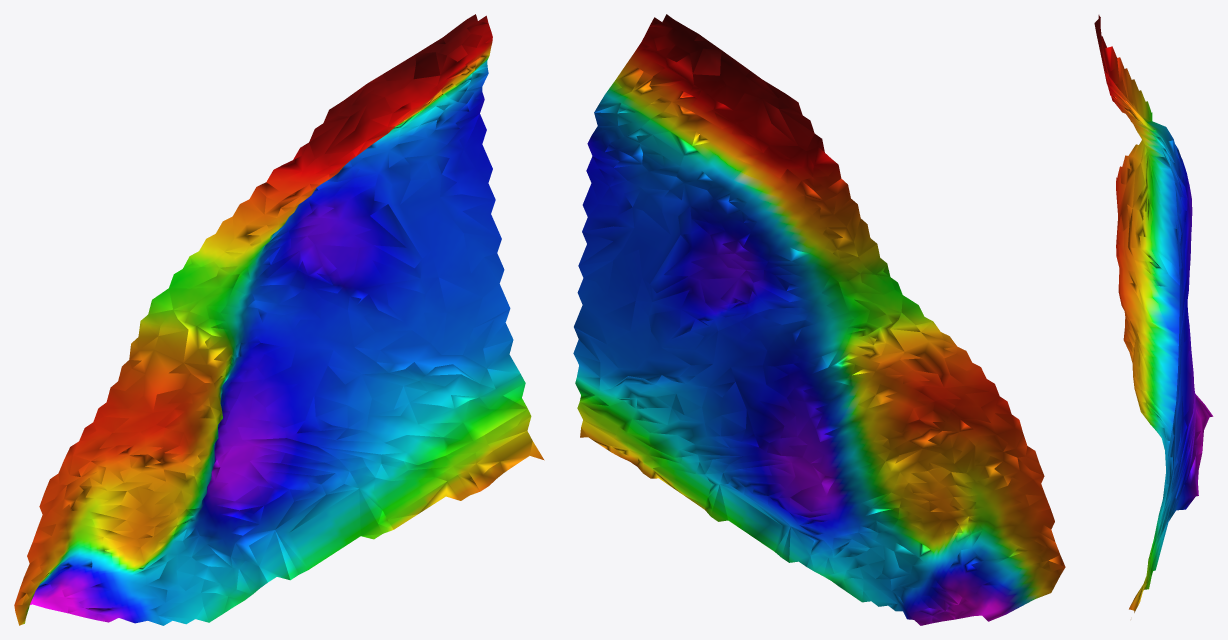
Rendered from Topo_Albiano_cubo.glb.
3 views of the same model, side by side, from view 1: azimuth 30°, elevation 25°; view 2: azimuth 150°, elevation 25°; view 3: azimuth 270°, elevation 25° (orthographic). The views are drawn at different scales.
Visible parts, largest first — view 1: Surface; view 2: Surface; view 3: Surface.
Part boxes in pixels (box(x1,y1,x2,y2)): Surface: box(14, 14, 544, 625); Surface: box(573, 14, 1065, 625); Surface: box(1094, 15, 1213, 612).
Size of the model in its own units: 143917 by 147097 by 23999.
Materials: 1 (1 with a texture image).
